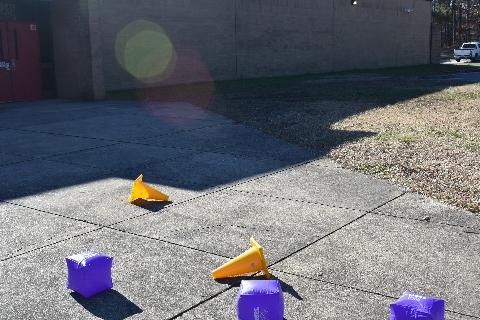cone: (212, 237, 270, 279), (130, 174, 168, 203)
cube: (65, 250, 113, 298), (236, 280, 284, 320), (390, 290, 444, 320)
